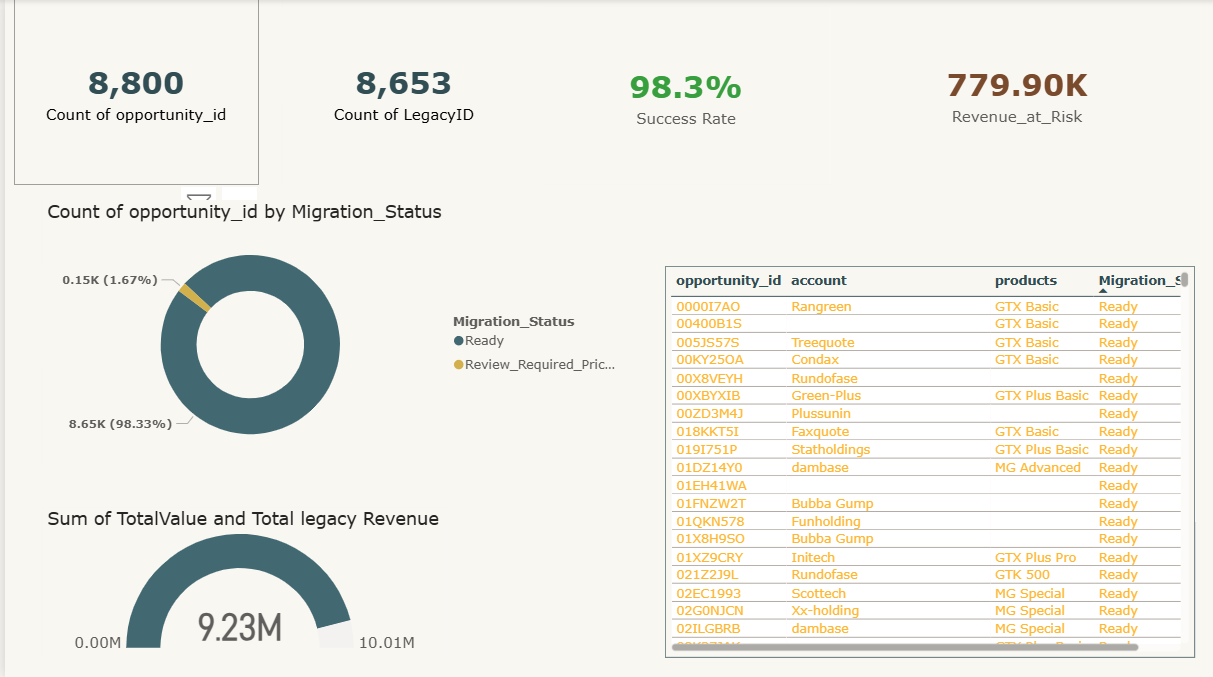

Layout of this report page (visuals, bound fields, positions):
{"tool":"powerbi","page":{"name":"Page 1","canvas":[1280,720],"ordinal":0},"visuals":[{"type":"card","fields":{"Values":["Count(sales_pipeline sales_pipeline.opportunity_id)"]},"box":[10,0,258.3,196.7],"z":0},{"type":"card","fields":{"Values":["Count(sales_pipeline erp_final_salesorders.LegacyID)"]},"box":[295,0,256.7,196.7],"z":1000},{"type":"card","fields":{"Values":["sales_pipeline accounts.Success Rate"]},"box":[572.6,0,305.4,197.2],"z":2000},{"type":"donutChart","fields":{"Y":["CountNonNull(sales_pipeline sales_pipeline.opportunity_id)"],"Category":["sales_pipeline sales_pipeline.Migration_Status"]},"box":[11.1,213.1,625.1,283.1],"z":3000},{"type":"gauge","fields":{"Y":["Sum(sales_pipeline erp_final_salesorders.TotalValue)"],"MaxValue":["sales_pipeline accounts.Total legacy Revenue"]},"box":[12.7,520.1,623.5,178.1],"z":4000},{"type":"tableEx","fields":{"Values":["sales_pipeline sales_pipeline.opportunity_id","sales_pipeline accounts.account","sales_pipeline products.products","sales_pipeline sales_pipeline.Migration_Status"]},"box":[699.9,213.1,561.5,485.1],"z":5000},{"type":"card","fields":{"Values":["sales_pipeline accounts.Revenue_at_Risk"]},"box":[900.3,0,361.1,197.2],"z":7000}]}

Visuals, with their boxes in screenshot pixels (x1, y1, x2, y2), scaled from the page's 1280x720 canvas onto the 1213x677 screenshot:
card - Count(sales_pipeline sales_pipeline.opportunity_id): 9/0/254/185
card - Count(sales_pipeline erp_final_salesorders.LegacyID): 280/0/523/185
card - sales_pipeline accounts.Success Rate: 543/0/832/185
donutChart - CountNonNull(sales_pipeline sales_pipeline.opportunity_id) x sales_pipeline sales_pipeline.Migration_Status: 11/200/603/467
gauge - Sum(sales_pipeline erp_final_salesorders.TotalValue) x sales_pipeline accounts.Total legacy Revenue: 12/489/603/657
tableEx - sales_pipeline sales_pipeline.opportunity_id x sales_pipeline accounts.account: 663/200/1195/657
card - sales_pipeline accounts.Revenue_at_Risk: 853/0/1195/185
